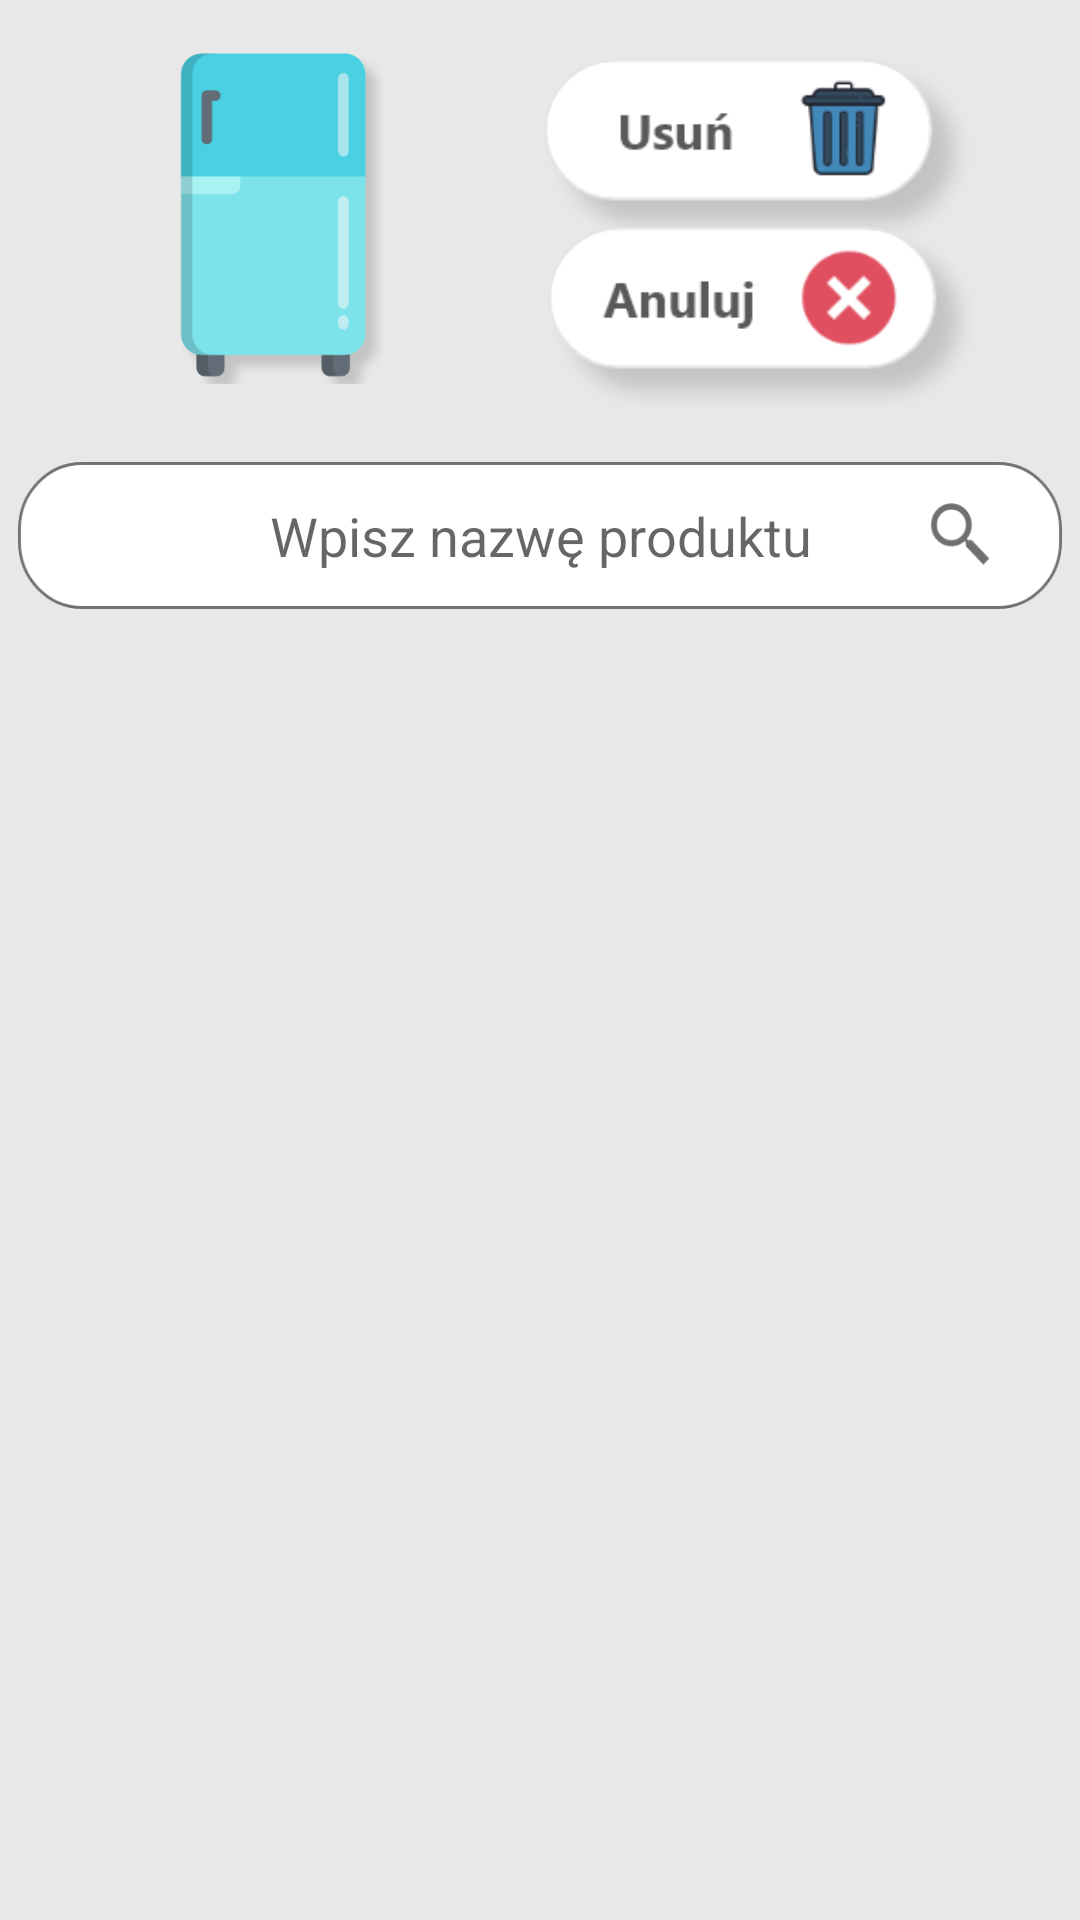

Screen size 1080px×1920px. Icon name, then its box in pixels as (x1, y1, x2, y2):
kitchen: (180, 53, 374, 384)
